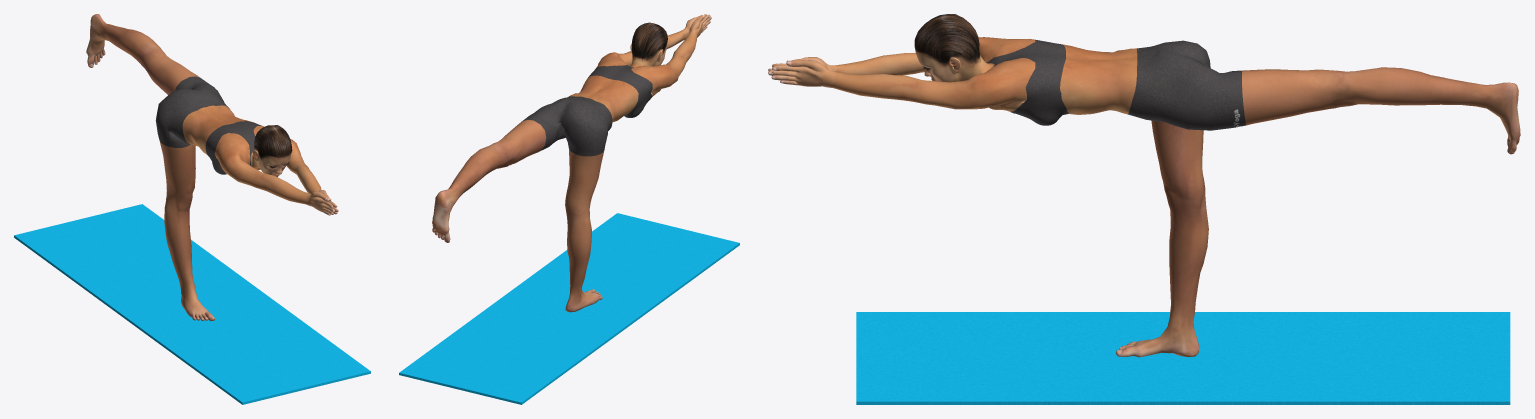
Rendered from virabhadrasana_iii.glb.
3 views of the same model, side by side, from view 1: azimuth 30°, elevation 25°; view 2: azimuth 150°, elevation 25°; view 3: azimuth 270°, elevation 25° (orthographic). The views are drawn at different scales.
Visible parts, largest first — view 1: Mat-one-piece_jpg-material, Lily_Texture01_06_2016_jpg-material; view 2: Mat-one-piece_jpg-material, Lily_Texture01_06_2016_jpg-material; view 3: Mat-one-piece_jpg-material, Lily_Texture01_06_2016_jpg-material.
Boxes of the visible parts, box(x1,y1,x2,y2) form: Mat-one-piece_jpg-material: box(14, 204, 370, 404); Lily_Texture01_06_2016_jpg-material: box(86, 14, 338, 320); Mat-one-piece_jpg-material: box(399, 213, 739, 404); Lily_Texture01_06_2016_jpg-material: box(432, 14, 711, 312); Mat-one-piece_jpg-material: box(856, 312, 1510, 404); Lily_Texture01_06_2016_jpg-material: box(768, 14, 1520, 357).
Size of the model in its own units: 2 by 3.56 by 7.1.
Materials: 2 (2 with a texture image).
